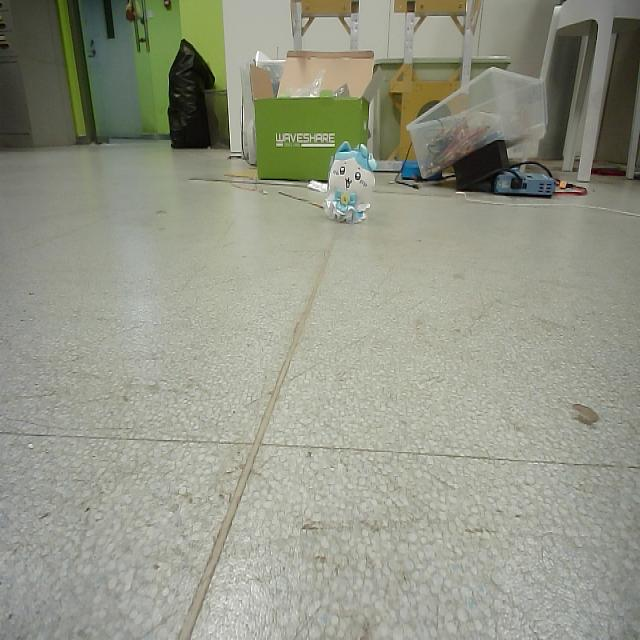xiaoba: (326, 139, 376, 224)
